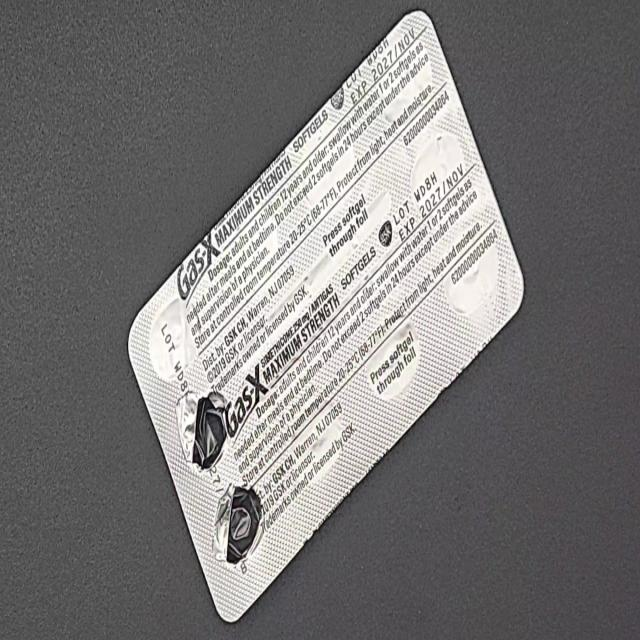defect: (210, 478, 267, 568), (174, 388, 230, 475)
